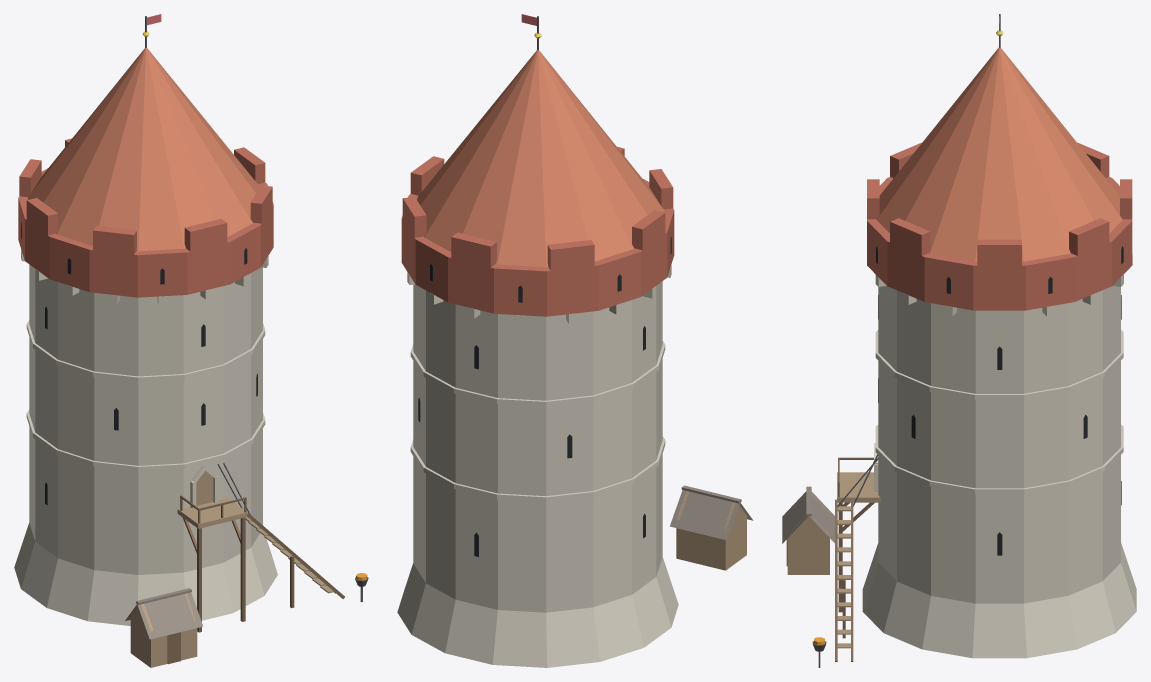
File: castle_donjon.glb
3 renders of one model, left to right at view 1: azimuth 30°, elevation 25°; view 2: azimuth 150°, elevation 25°; view 3: azimuth 270°, elevation 25°, orthographic. The views are drawn at different scales.
Visible parts, largest first — view 1: CastleDonjon; view 2: CastleDonjon; view 3: CastleDonjon.
Part boxes in pixels (x1,y1,x2,y2): CastleDonjon: (14,14,368,667); CastleDonjon: (397,14,753,667); CastleDonjon: (782,14,1136,667).
Bounding box in the file's own units: 17.14 × 36.62 × 20.05.
